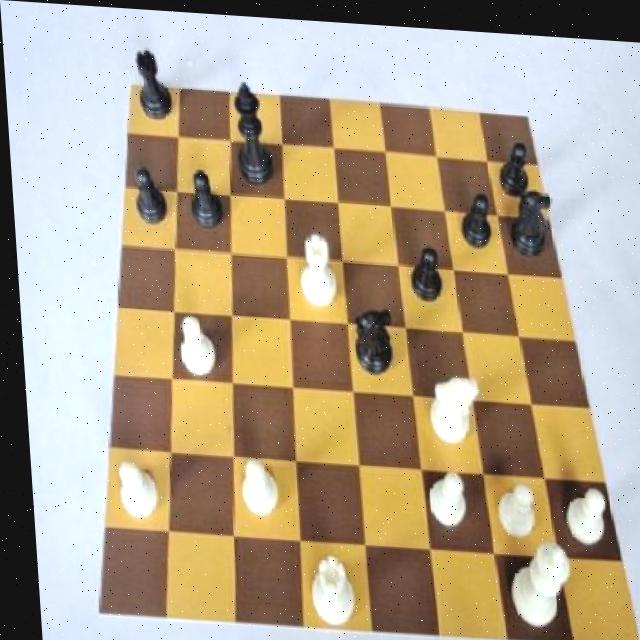black-bishop: (225, 76, 275, 186)
black-king: (345, 296, 400, 376), (502, 180, 558, 258)
black-knight: (450, 183, 498, 248), (180, 161, 224, 231), (404, 236, 447, 302), (491, 128, 532, 194), (128, 162, 167, 228)
black-queen: (130, 41, 176, 130)
white-bishop: (496, 531, 567, 631)
white-king: (416, 362, 479, 449)
white-knight: (101, 457, 159, 525), (165, 311, 218, 379), (551, 475, 604, 542), (418, 464, 473, 528), (228, 457, 279, 523), (486, 472, 539, 534)
white-queen: (289, 219, 339, 310), (300, 542, 352, 627)
